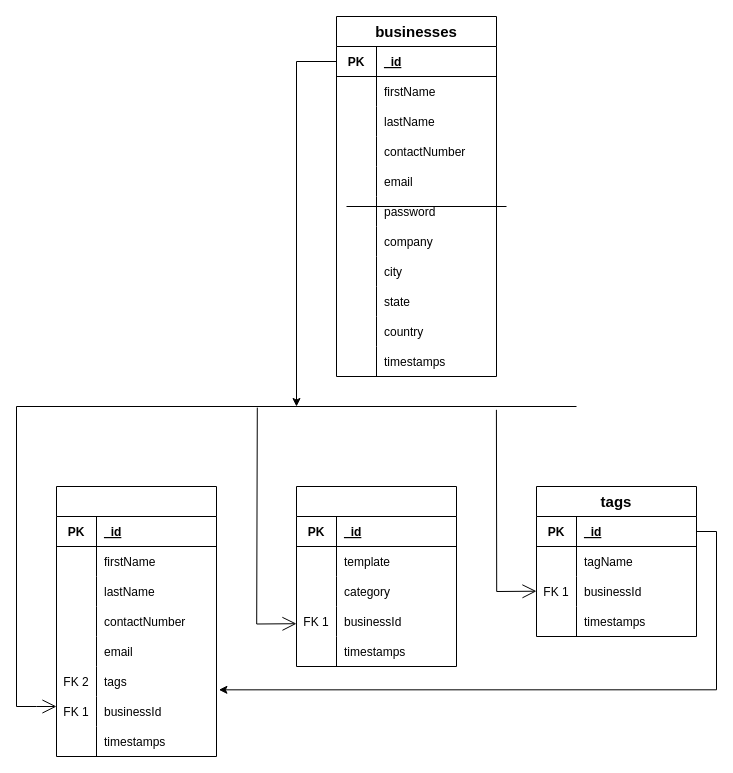
The diagram is 733 pixels wide and 773 high, and some of its shapes have lost their labels. The shapes that lost their labels are listed below. From the top down, each one's box as (x1, y1, x2, y2) in pixels, then its label:
(296, 486, 456, 666): templates
(56, 486, 216, 756): contacts
